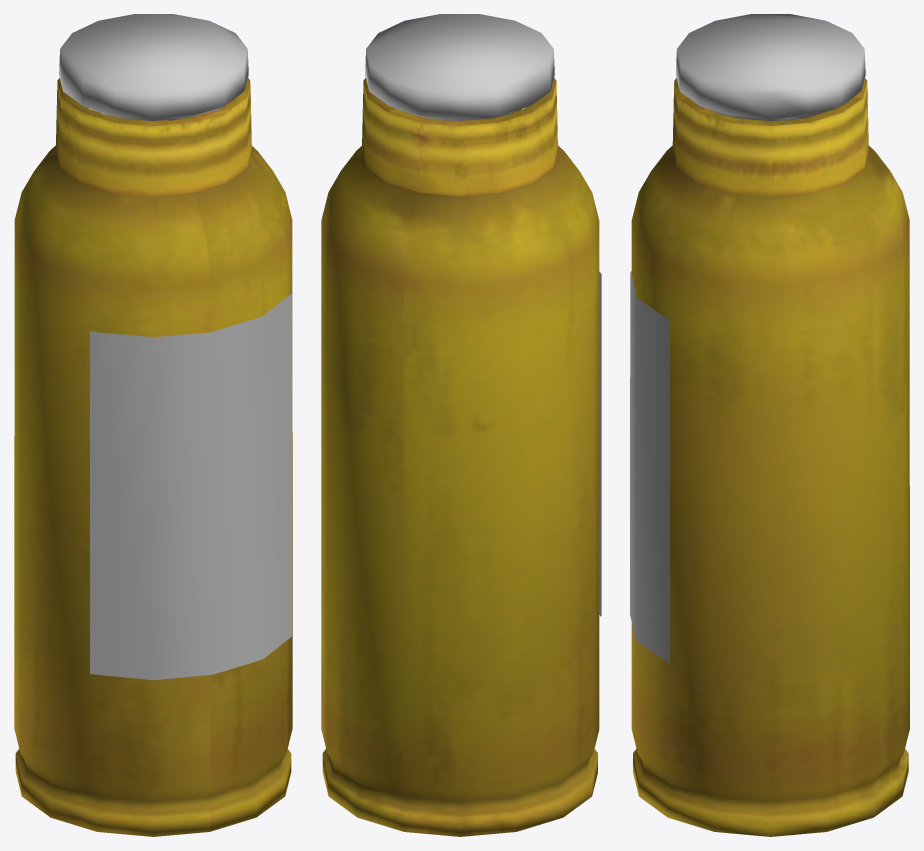
File: botte_of_juice.dae
3 renders of one model, left to right at view 1: azimuth 30°, elevation 25°; view 2: azimuth 150°, elevation 25°; view 3: azimuth 270°, elevation 25°, orthographic.
Parts seen in each view (by area): view 1: botte_of_juice, botte_of_juice_cap; view 2: botte_of_juice, botte_of_juice_cap; view 3: botte_of_juice, botte_of_juice_cap.
Part boxes in pixels (box(x1,y1,x2,y2)): botte_of_juice: box(14, 78, 292, 836); botte_of_juice_cap: box(59, 14, 291, 680); botte_of_juice: box(321, 78, 599, 836); botte_of_juice_cap: box(365, 14, 601, 616); botte_of_juice: box(631, 78, 909, 836); botte_of_juice_cap: box(630, 14, 865, 662).
Bounding box in the file's own units: 8.59 × 24.84 × 8.68.
